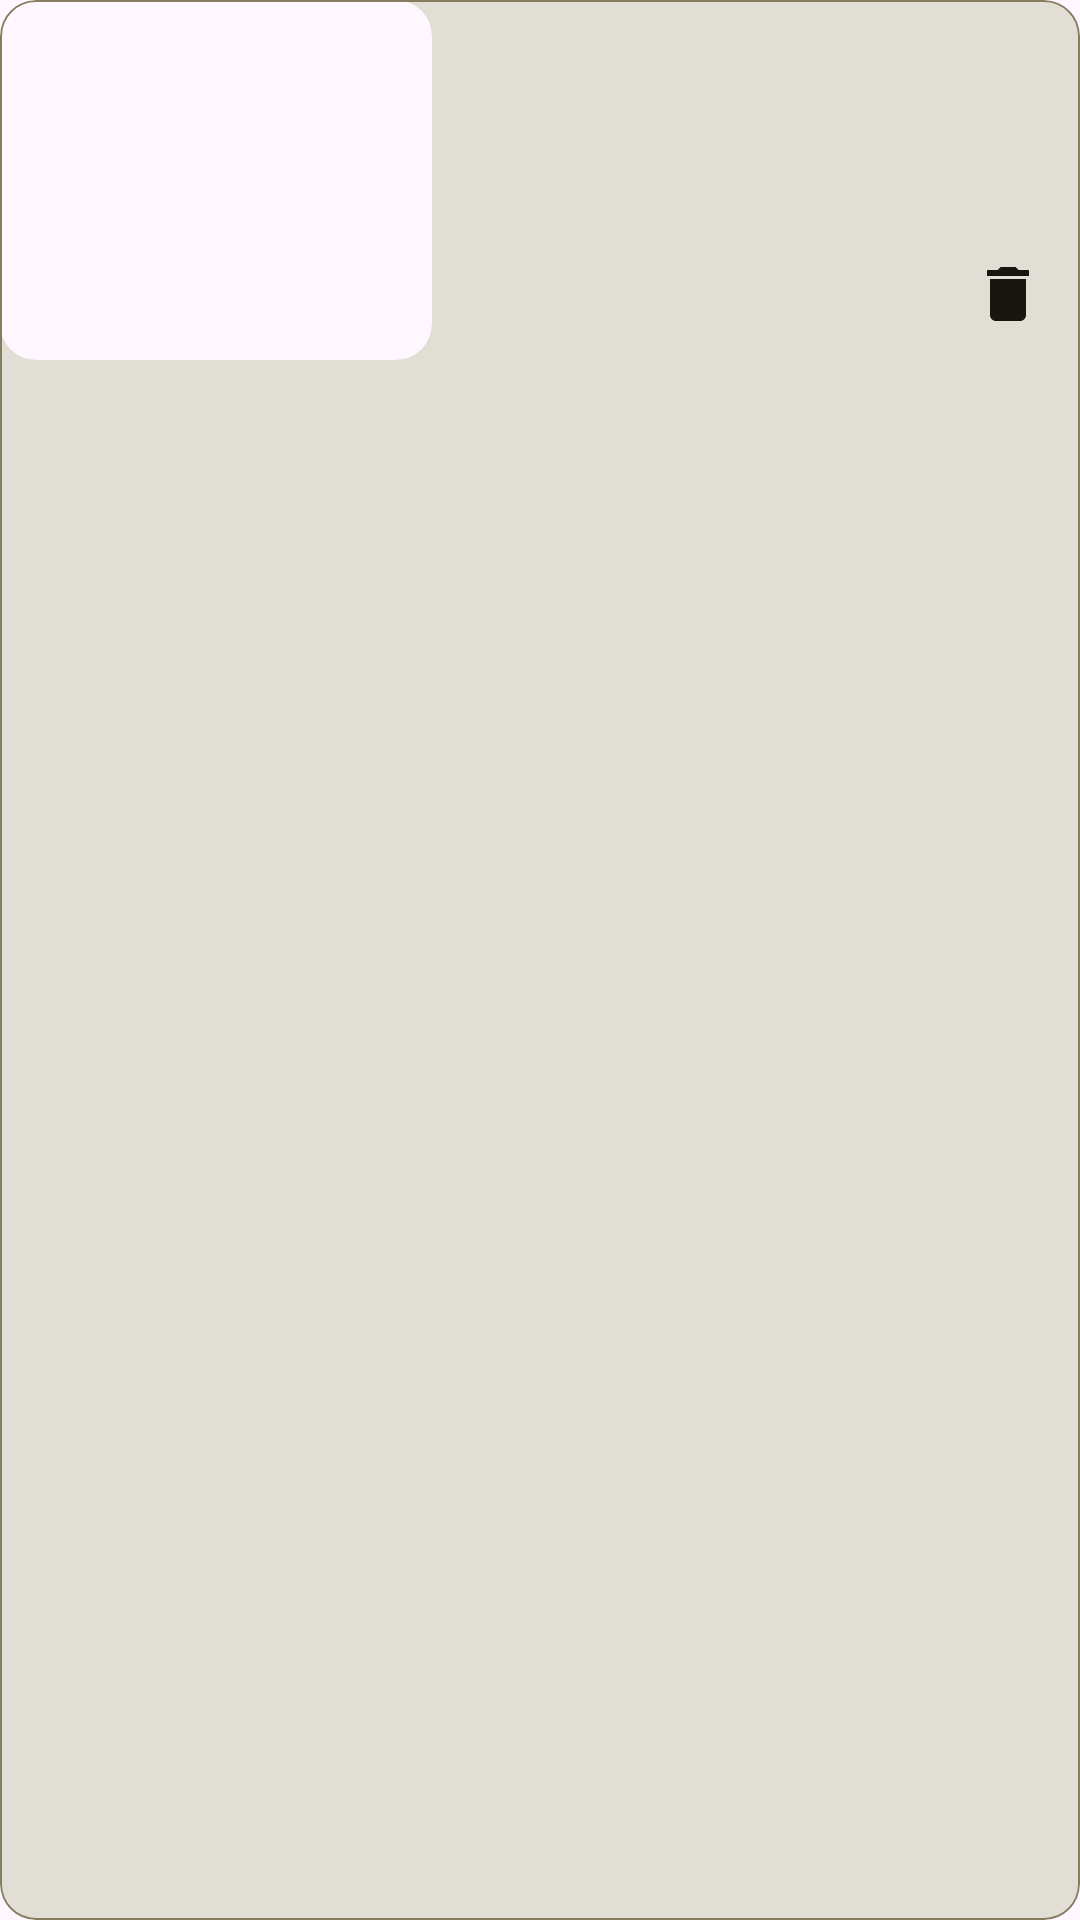

Screen size 1080 x 1920. Icon name, then its box in pixels as (x1, y1, x2, y2):
trash: (987, 267, 1029, 321)
